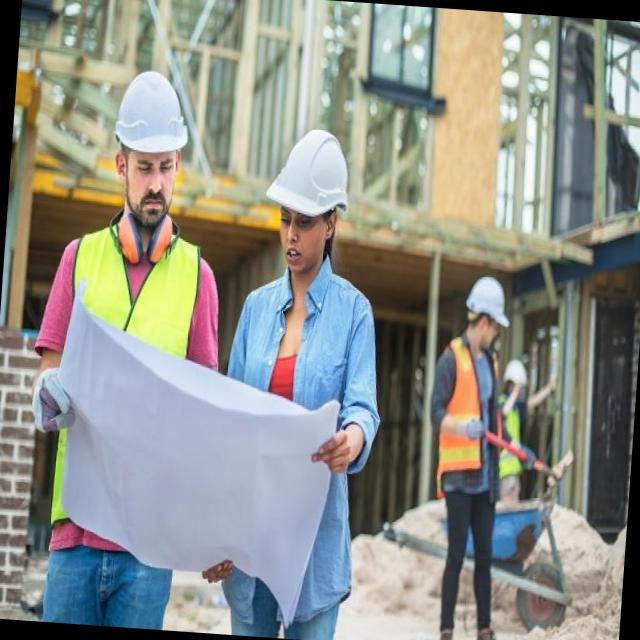Gloves: (18, 366, 78, 435)
Helmet: (262, 113, 358, 231), (112, 72, 192, 165), (462, 258, 518, 338)
Vest: (59, 226, 199, 535), (434, 327, 514, 482)
